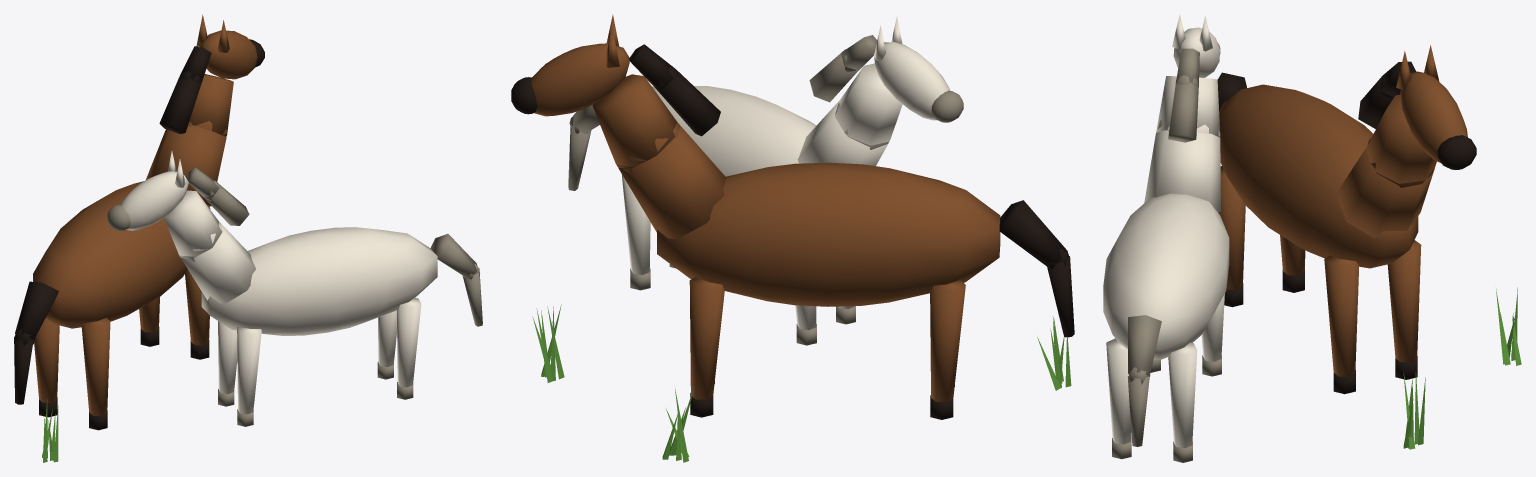
File: resource_horses.fbx
3 views of the same model, side by side, from view 1: azimuth 30°, elevation 25°; view 2: azimuth 150°, elevation 25°; view 3: azimuth 270°, elevation 25° (orthographic). The views are drawn at different scales.
Visible parts, largest first — view 1: resource_horses_fur#e8e0d0_02, resource_horses_fur#7a4a26_00, resource_horses_dk#1c1410_01, resource_horses_dk#8a8272_03, resource_horses_grass#5d9a3a.002_04; view 2: resource_horses_fur#7a4a26_00, resource_horses_fur#e8e0d0_02, resource_horses_dk#1c1410_01, resource_horses_dk#8a8272_03, resource_horses_grass#5d9a3a.002_04; view 3: resource_horses_fur#7a4a26_00, resource_horses_fur#e8e0d0_02, resource_horses_dk#8a8272_03, resource_horses_dk#1c1410_01, resource_horses_grass#5d9a3a.002_04.
Part boxes in pixels (bbox=[...]): resource_horses_fur#e8e0d0_02: bbox=[120, 151, 437, 414]; resource_horses_fur#7a4a26_00: bbox=[33, 14, 257, 415]; resource_horses_dk#1c1410_01: bbox=[14, 39, 264, 430]; resource_horses_dk#8a8272_03: bbox=[107, 167, 482, 426]; resource_horses_grass#5d9a3a.002_04: bbox=[42, 399, 58, 462]; resource_horses_fur#7a4a26_00: bbox=[531, 14, 1000, 402]; resource_horses_fur#e8e0d0_02: bbox=[621, 17, 949, 330]; resource_horses_dk#1c1410_01: bbox=[511, 44, 1074, 419]; resource_horses_dk#8a8272_03: bbox=[568, 35, 963, 345]; resource_horses_grass#5d9a3a.002_04: bbox=[532, 304, 1071, 462]; resource_horses_fur#7a4a26_00: bbox=[1218, 45, 1467, 376]; resource_horses_fur#e8e0d0_02: bbox=[1103, 14, 1229, 448]; resource_horses_dk#8a8272_03: bbox=[1112, 42, 1221, 462]; resource_horses_dk#1c1410_01: bbox=[1217, 61, 1476, 394]; resource_horses_grass#5d9a3a.002_04: bbox=[1403, 287, 1521, 449].
Bounding box in the file's own units: 130 × 86.47 × 89.18.
